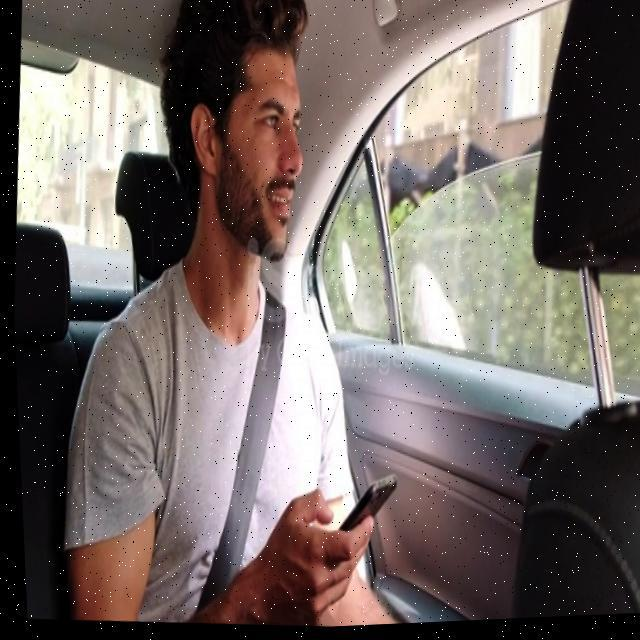PhoneCall: (322, 470, 394, 538)
